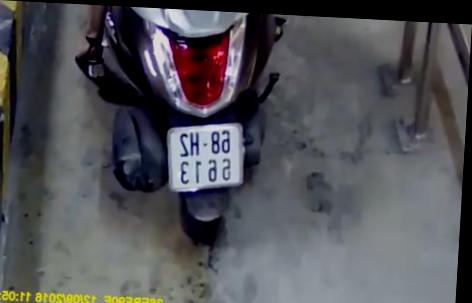License_Plate: (157, 116, 255, 202)
